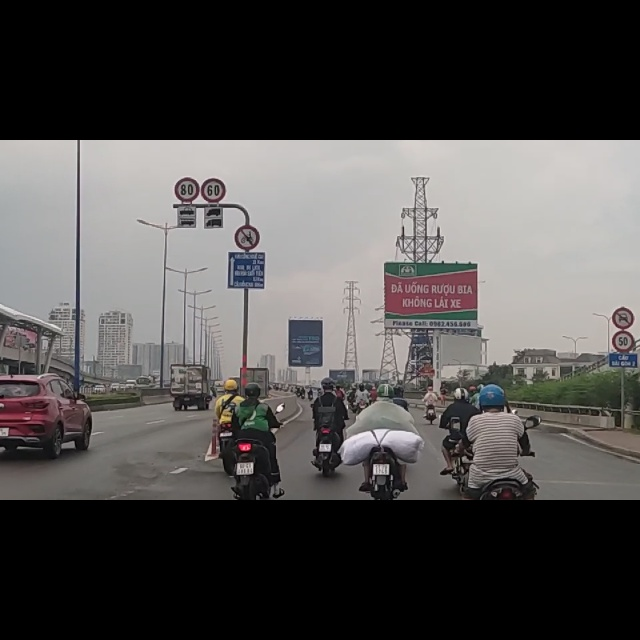bien_cam: (232, 145, 261, 201), (173, 64, 199, 114), (201, 68, 227, 113), (611, 295, 637, 338), (612, 341, 637, 382)
